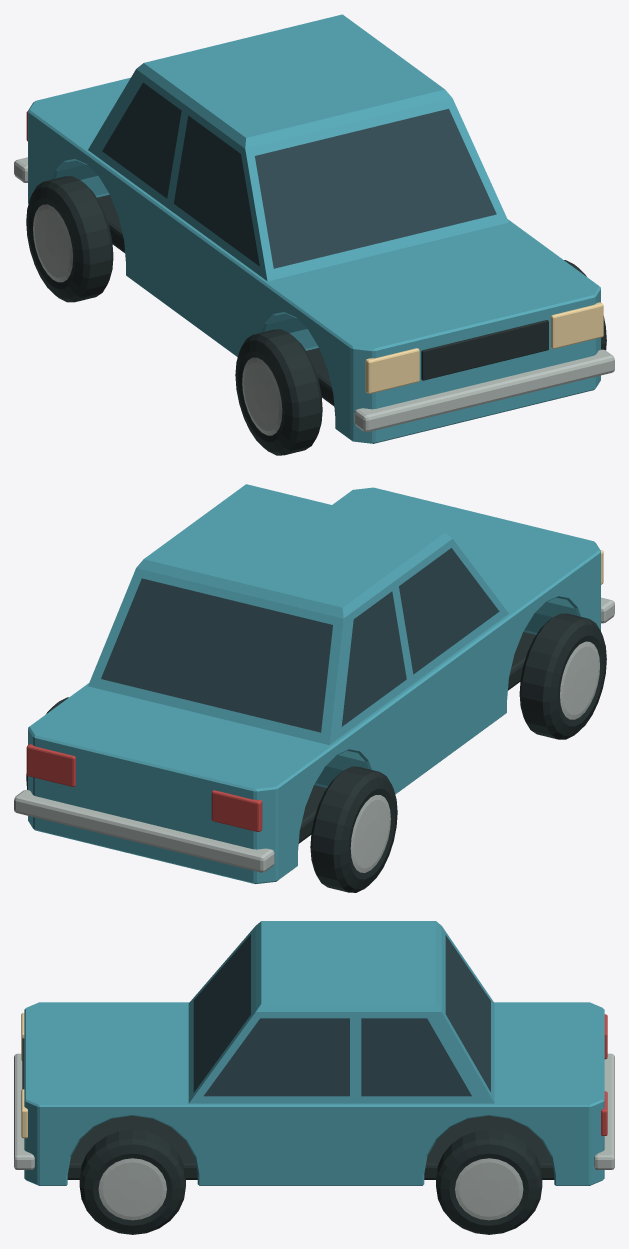
File: asset.glb
3 views of the same model, one above another, from view 1: azimuth 30°, elevation 25°; view 2: azimuth 150°, elevation 25°; view 3: azimuth 270°, elevation 25° (orthographic). The views are drawn at different scales.
Visible parts, largest first — view 1: Body_ThreeBox_LowerShell, Cabin_Painted_Pillars_Roof, Glass_Windshield, wheel_rl, wheel_fl, Glass_Front_L, Bumper_Front, Glass_Rear_L, Grille_Dark, Headlight_L, Headlight_R, Underbody_Recessed; view 2: Body_ThreeBox_LowerShell, Cabin_Painted_Pillars_Roof, Glass_RearWindow, wheel_fl, wheel_rl, Glass_Front_L, Bumper_Rear, Glass_Rear_L, Taillight_L, Taillight_R, Underbody_Recessed; view 3: Body_ThreeBox_LowerShell, Cabin_Painted_Pillars_Roof, Glass_Front_R, wheel_fr, wheel_rr, Glass_Rear_R, Underbody_Recessed, Glass_Windshield, Glass_RearWindow, Bumper_Rear, Bumper_Front.
Boxes of the visible parts, box(x1,y1,x2,y2) form: Body_ThreeBox_LowerShell: box(28, 77, 600, 443); Cabin_Painted_Pillars_Roof: box(88, 14, 508, 281); Glass_Windshield: box(255, 108, 496, 268); wheel_rl: box(26, 176, 113, 302); wheel_fl: box(235, 329, 322, 455); Glass_Front_L: box(174, 115, 259, 266); Bumper_Front: box(354, 349, 614, 432); Glass_Rear_L: box(102, 82, 181, 198); Grille_Dark: box(421, 320, 548, 380); Headlight_L: box(365, 348, 419, 393); Headlight_R: box(551, 302, 603, 348); Underbody_Recessed: box(97, 194, 334, 406); Body_ThreeBox_LowerShell: box(28, 487, 600, 883); Cabin_Painted_Pillars_Roof: box(88, 484, 508, 744); Glass_RearWindow: box(101, 578, 332, 732); wheel_fl: box(519, 613, 606, 739); wheel_rl: box(310, 766, 397, 892); Glass_Front_L: box(399, 548, 499, 674); Bumper_Rear: box(14, 790, 274, 872); Glass_Rear_L: box(341, 591, 406, 726); Taillight_L: box(211, 790, 262, 832); Taillight_R: box(26, 744, 75, 786); Underbody_Recessed: box(298, 632, 535, 843); Body_ThreeBox_LowerShell: box(24, 1002, 604, 1185); Cabin_Painted_Pillars_Roof: box(188, 921, 494, 1103); Glass_Front_R: box(204, 1018, 349, 1096); wheel_fr: box(79, 1129, 185, 1234); wheel_rr: box(436, 1129, 542, 1234); Glass_Rear_R: box(361, 1018, 471, 1096); Underbody_Recessed: box(67, 1115, 554, 1179); Glass_Windshield: box(193, 934, 250, 1092); Glass_RearWindow: box(445, 935, 490, 1091); Bumper_Rear: box(594, 1053, 614, 1169); Bumper_Front: box(14, 1053, 34, 1169).
Size of the model in its own units: 2.25 by 1.65 by 4.3.
